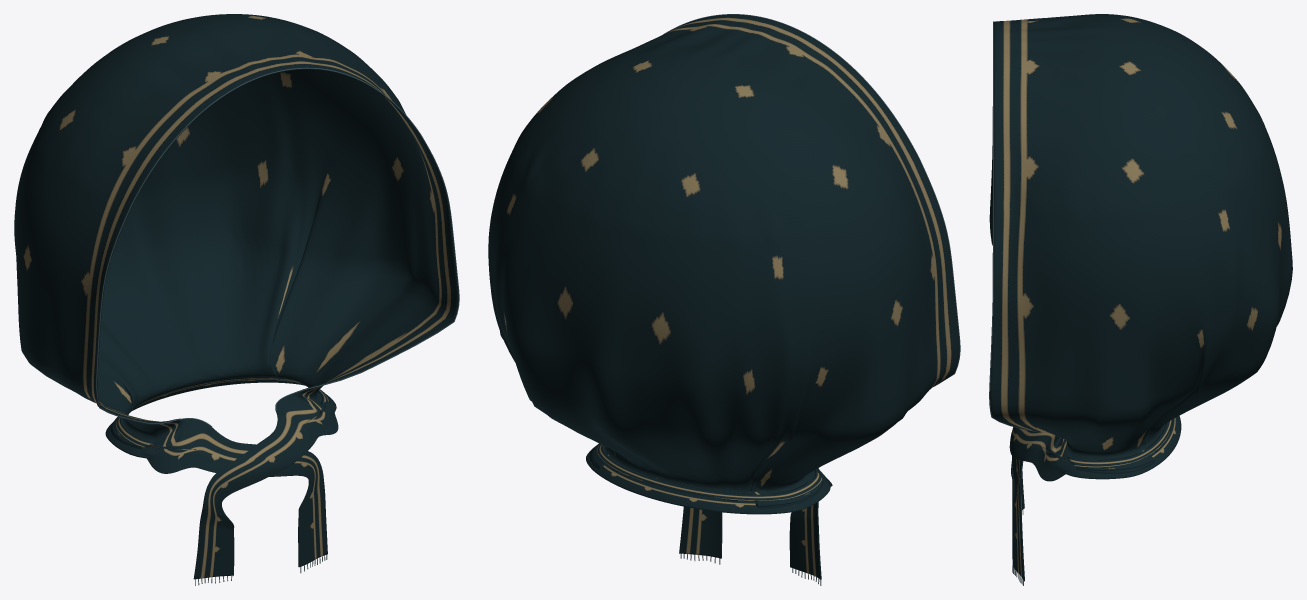
Rendered from Masculine-sweatshirt-pashmina242-headgear.glb.
3 views of the same model, side by side, from view 1: azimuth 30°, elevation 25°; view 2: azimuth 150°, elevation 25°; view 3: azimuth 270°, elevation 25° (orthographic). The views are drawn at different scales.
Parts seen in each view (by area): view 1: 226 headgear / Headwear / continuous woven pashmina239, 226 headgear / Headwear / face edge239; view 2: 226 headgear / Headwear / continuous woven pashmina239, 226 headgear / Headwear / face edge239; view 3: 226 headgear / Headwear / continuous woven pashmina239, 226 headgear / Headwear / face edge239.
Boxes of the visible parts, x1=… form: 226 headgear / Headwear / continuous woven pashmina239: x1=14, y1=14, x2=458, y2=579; 226 headgear / Headwear / face edge239: x1=96, y1=67, x2=459, y2=427; 226 headgear / Headwear / continuous woven pashmina239: x1=488, y1=14, x2=959, y2=579; 226 headgear / Headwear / face edge239: x1=663, y1=14, x2=960, y2=386; 226 headgear / Headwear / continuous woven pashmina239: x1=989, y1=14, x2=1292, y2=581; 226 headgear / Headwear / face edge239: x1=989, y1=21, x2=1038, y2=431.
Bounding box in the file's own units: 1.03 × 1.35 × 0.7127.
Materials: 3 (1 with a texture image).
